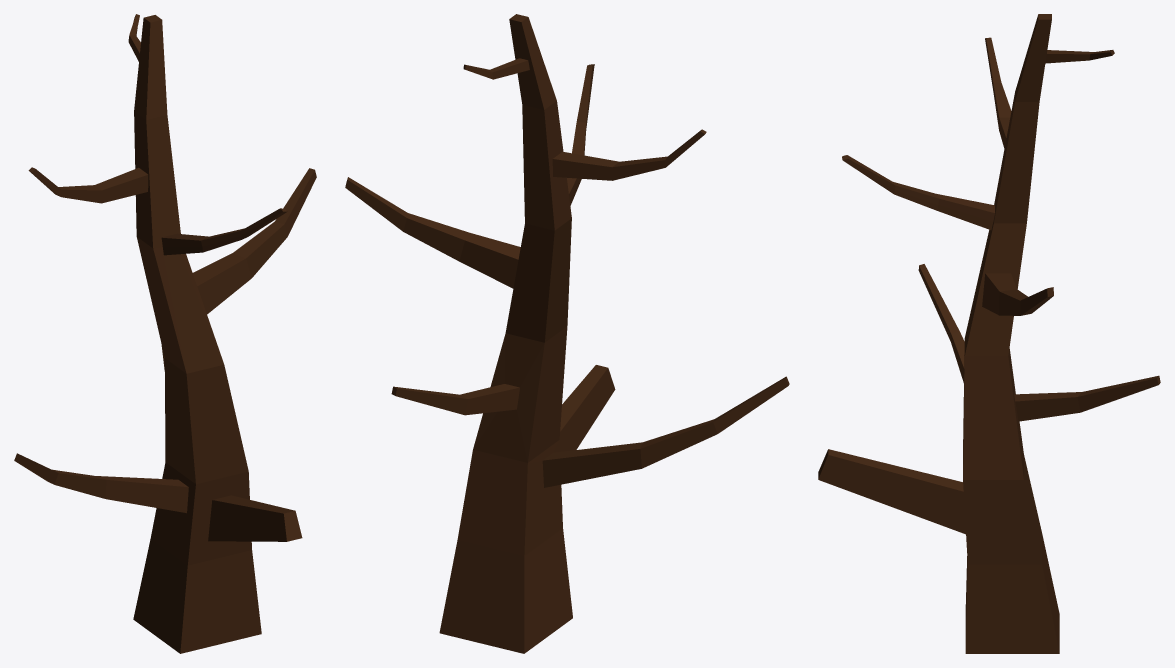
File: Dorre Boom Design 1.fbx
The picture shows the model from 3 angles, left to right: view 1: azimuth 30°, elevation 25°; view 2: azimuth 150°, elevation 25°; view 3: azimuth 270°, elevation 25°; orthographic projection. The views are drawn at different scales.
Visible parts, largest first — view 1: Dode boom Design 1; view 2: Dode boom Design 1; view 3: Dode boom Design 1.
Boxes of the visible parts, box(x1,y1,x2,y2) form: Dode boom Design 1: box(14, 14, 316, 653); Dode boom Design 1: box(345, 14, 789, 653); Dode boom Design 1: box(818, 14, 1160, 653).
Bounding box in the file's own units: 424 × 672 × 345.
